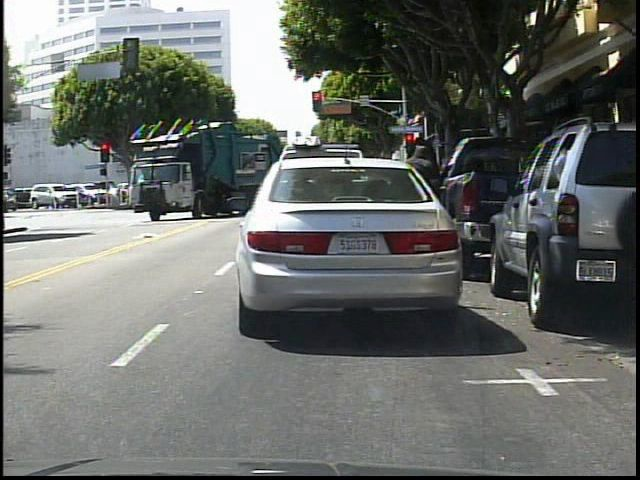person: (390, 141, 448, 272)
